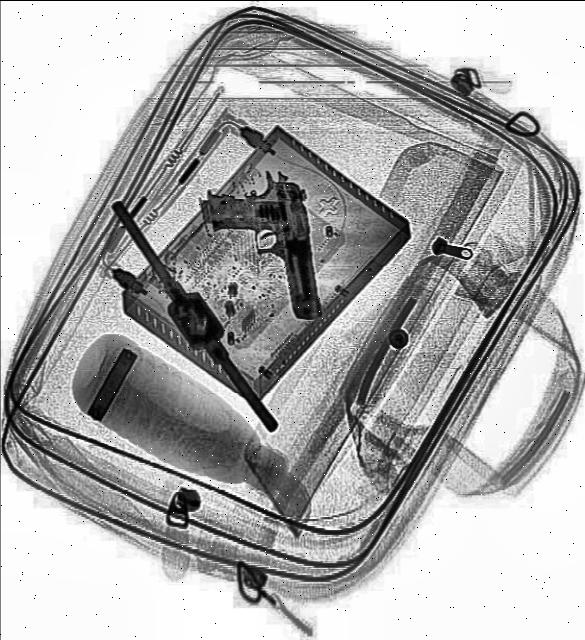Gun: (196, 166, 322, 334)
